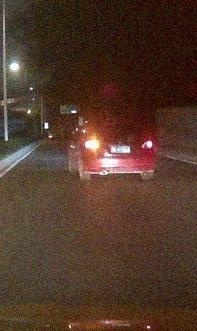L_light: (84, 140, 100, 148)
R_light: (141, 140, 153, 149)
T_light: (114, 122, 127, 126)
night-left: (81, 120, 158, 181)
